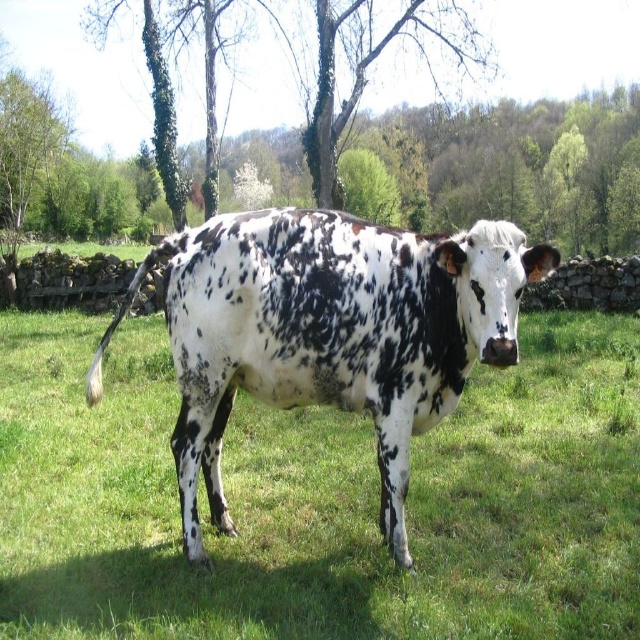Cattle: (85, 207, 561, 577)
